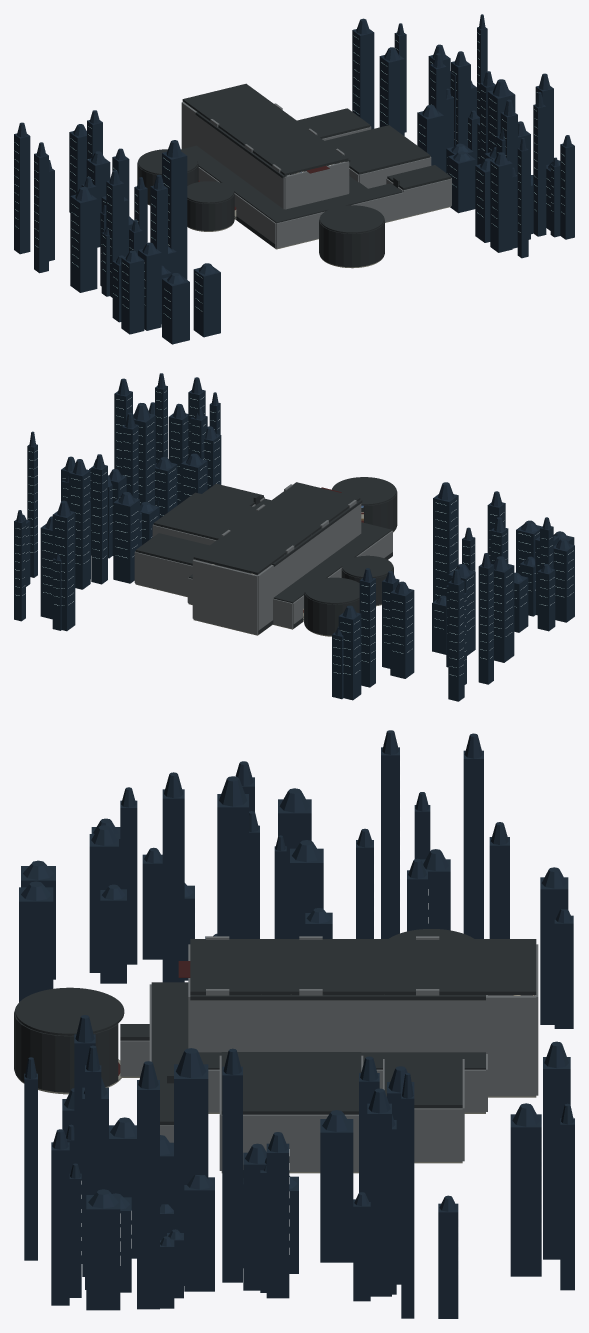
The model's file is coruscant_temple.glb.
The picture shows the model from 3 angles, top to bottom: view 1: azimuth 30°, elevation 25°; view 2: azimuth 150°, elevation 25°; view 3: azimuth 270°, elevation 25°; orthographic projection. The views are drawn at different scales.
Parts seen in each view (by area): view 1: ENV_Skyline_City, ENV_Hall_DarkStone, ENV_Hall_Limestone, ENV_Rotunda_DarkStone, ENV_Archive_DarkStone, ENV_Meditation_DarkStone, ENV_Cross_Limestone, ENV_West_DarkStone, ENV_Cross_DarkStone, ENV_Service_Limestone, ENV_Antechamber_DarkStone, ENV_Council_DarkStone (+6 smaller); view 2: ENV_Skyline_City, ENV_Hall_DarkStone, ENV_Apse_Limestone, ENV_Hall_Limestone, ENV_Archive_DarkStone, ENV_Council_DarkStone, ENV_Rotunda_DarkStone, ENV_Antechamber_Limestone, ENV_Skyline_CityLights, ENV_West_DarkStone, ENV_Antechamber_DarkStone, ENV_Apse_DarkStone (+5 smaller); view 3: ENV_Skyline_City, ENV_Hall_DarkStone, ENV_Hall_Limestone, ENV_Rotunda_DarkStone, ENV_Archive_DarkStone, ENV_Apse_Limestone, ENV_Archive_Limestone, ENV_Antechamber_DarkStone, ENV_Antechamber_Limestone, ENV_Cross_DarkStone, ENV_Apse_DarkStone, ENV_East_Limestone (+2 smaller).
Part boxes in pixels (x1,y1,x2,y2): ENV_Skyline_City: (14,14,574,344); ENV_Hall_DarkStone: (195,94,350,178); ENV_Hall_Limestone: (196,103,349,209); ENV_Rotunda_DarkStone: (319,205,384,267); ENV_Archive_DarkStone: (325,125,430,174); ENV_Meditation_DarkStone: (187,181,234,230); ENV_Cross_Limestone: (264,192,403,248); ENV_West_DarkStone: (181,145,295,239); ENV_Cross_DarkStone: (264,183,402,248); ENV_Service_Limestone: (386,178,451,217); ENV_Antechamber_DarkStone: (297,108,370,138); ENV_Council_DarkStone: (137,149,198,204); ENV_Skyline_City: (14,373,574,701); ENV_Hall_DarkStone: (209,482,362,566); ENV_Apse_Limestone: (192,559,273,634); ENV_Hall_Limestone: (209,484,361,597); ENV_Archive_DarkStone: (153,492,257,540); ENV_Council_DarkStone: (304,577,359,635); ENV_Rotunda_DarkStone: (332,477,397,531); ENV_Antechamber_Limestone: (134,551,192,596); ENV_Skyline_CityLights: (15,391,573,676); ENV_West_DarkStone: (273,528,391,628); ENV_Antechamber_DarkStone: (135,533,209,565); ENV_Apse_DarkStone: (193,546,273,634); ENV_Skyline_City: (19,730,574,1318); ENV_Hall_DarkStone: (190,939,485,1000); ENV_Hall_Limestone: (188,936,487,1052); ENV_Rotunda_DarkStone: (14,987,124,1092); ENV_Archive_DarkStone: (221,1052,361,1114); ENV_Apse_Limestone: (486,944,538,1096); ENV_Archive_Limestone: (219,1055,363,1171); ENV_Antechamber_DarkStone: (384,1055,462,1108); ENV_Antechamber_Limestone: (383,1059,464,1161); ENV_Cross_DarkStone: (151,982,188,1082); ENV_Apse_DarkStone: (486,939,536,995); ENV_East_Limestone: (208,1054,487,1112).
Size of what is drawn, in the model's own units: 229 by 68.88 by 144.
Materials: 12 (1 with a texture image).
